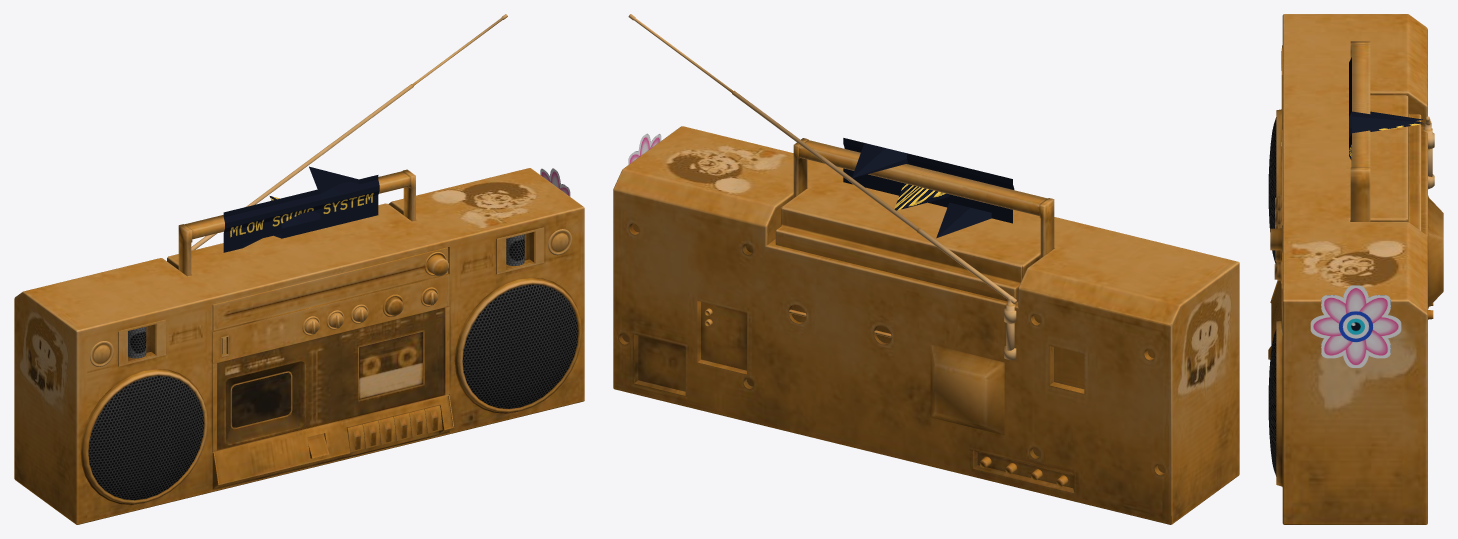
Rendered from nyb_bs_boombox.glb.
3 renders of one model, left to right at view 1: azimuth 30°, elevation 25°; view 2: azimuth 150°, elevation 25°; view 3: azimuth 270°, elevation 25°, orthographic. The views are drawn at different scales.
Parts seen in each view (by area): view 1: boombox, stk_lbl_6f801a96f0.png; view 2: boombox, stk_lbl_6f801a96f0.png; view 3: boombox, stk_eyeflower_die.png, stk_lbl_6f801a96f0.png.
Boxes of the visible parts, bbox=[...] form: boombox: bbox=[14, 14, 584, 524]; stk_lbl_6f801a96f0.png: bbox=[223, 166, 379, 252]; boombox: bbox=[613, 14, 1239, 524]; stk_lbl_6f801a96f0.png: bbox=[843, 138, 1014, 238]; boombox: bbox=[1268, 14, 1443, 524]; stk_eyeflower_die.png: bbox=[1310, 285, 1401, 367]; stk_lbl_6f801a96f0.png: bbox=[1349, 57, 1423, 159].
Size of the model in its own units: 0.7263 by 0.4701 by 0.1865.
Materials: 4 (4 with a texture image).
